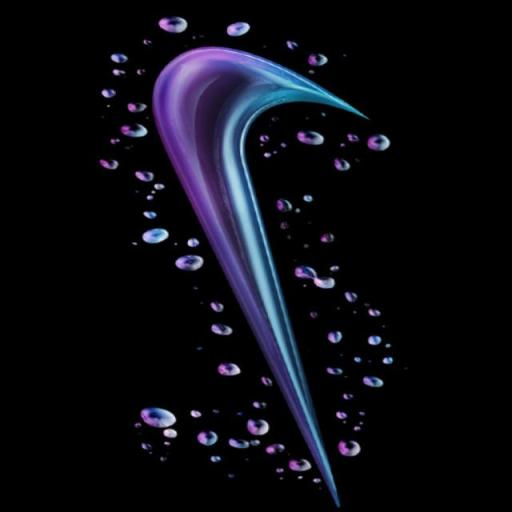Nike: (114, 41, 388, 511)
